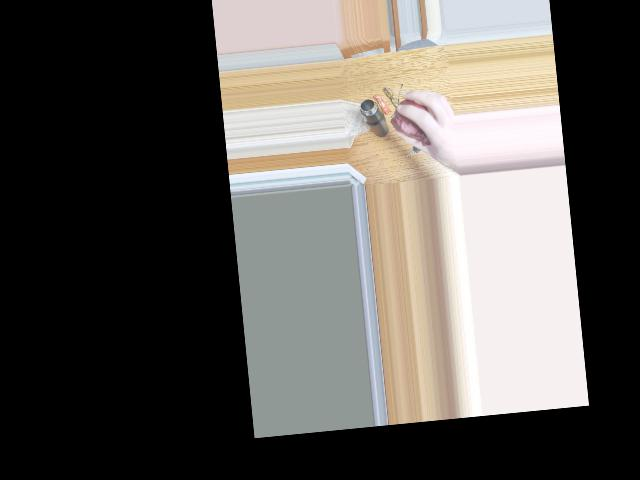onion: (392, 96, 430, 137)
